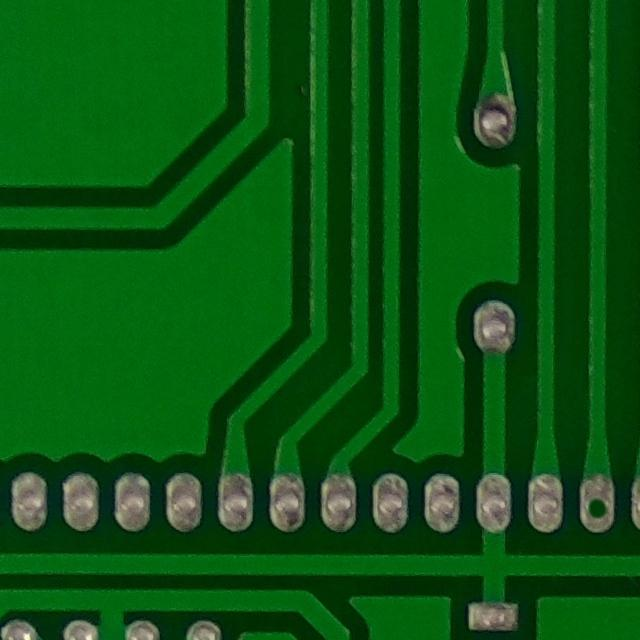missing_hole: (569, 481, 624, 539)
